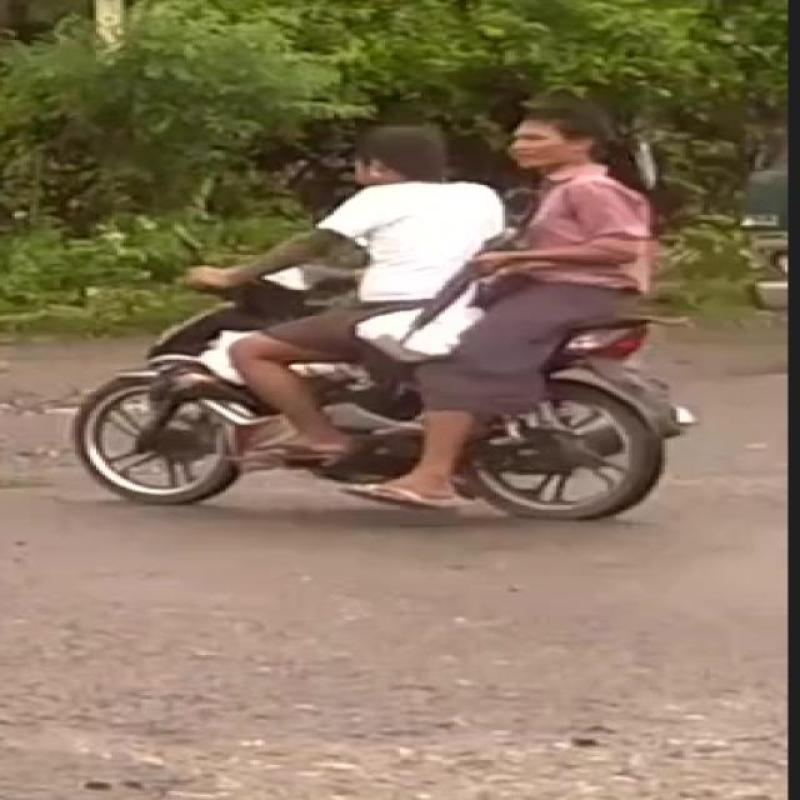nohelmet: (503, 89, 646, 179), (318, 111, 473, 191)
